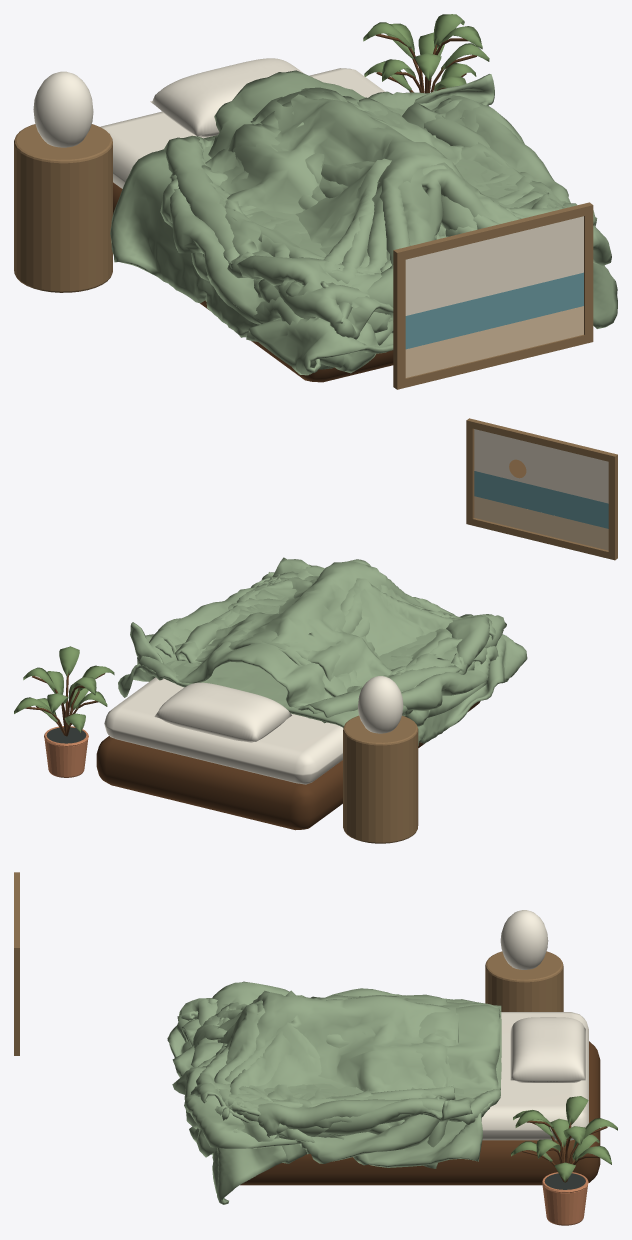
The model's file is room-sleep.glb.
The picture shows the model from 3 angles, top to bottom: view 1: azimuth 30°, elevation 25°; view 2: azimuth 150°, elevation 25°; view 3: azimuth 270°, elevation 25°; orthographic projection. The views are drawn at different scales.
Visible parts, largest first — view 1: sleep_duvet_lizard, sleep_duvet_empty, sleep_duvet_ghibli, sleep__pale oak, sleep_duvet_rick-and-morty, sleep_decor linen canvas sky, sleep_duvet_simpsons, sleep__linen, sleep_decor pale oak, sleep_duvet_south-park, sleep_decor linen canvas sea, sleep_decor linen canvas sand (+3 smaller); view 2: sleep__linen, sleep__honey ash, sleep_duvet_ghibli, sleep_duvet_lizard, sleep__pale oak, sleep_duvet_empty, sleep_decor linen canvas sky, sleep_pillow_empty, sleep_duvet_south-park, sleep_duvet_simpsons, sleep_decor pale oak, sleep_decor linen canvas sea (+4 smaller); view 3: sleep_duvet_lizard, sleep_duvet_ghibli, sleep__honey ash, sleep_duvet_south-park, sleep_duvet_empty, sleep__linen, sleep_duvet_simpsons, sleep_duvet_rick-and-morty, sleep_pillow_empty, sleep__pale oak, sleep__olive leaf, sleep__terracotta (+2 smaller).
Boxes of the visible parts, left/top/right/bottom form: sleep_duvet_lizard: left=169, top=87, right=567, bottom=345; sleep_duvet_empty: left=110, top=74, right=617, bottom=375; sleep_duvet_ghibli: left=164, top=70, right=563, bottom=333; sleep__pale oak: left=14, top=124, right=112, bottom=292; sleep_duvet_rick-and-morty: left=209, top=142, right=577, bottom=339; sleep_decor linen canvas sky: left=405, top=216, right=583, bottom=315; sleep_duvet_simpsons: left=160, top=90, right=611, bottom=373; sleep__linen: left=33, top=68, right=385, bottom=188; sleep_decor pale oak: left=393, top=202, right=593, bottom=389; sleep_duvet_south-park: left=188, top=96, right=596, bottom=318; sleep_decor linen canvas sea: left=405, top=272, right=583, bottom=349; sleep_decor linen canvas sand: left=405, top=306, right=583, bottom=377; sleep__linen: left=104, top=676, right=403, bottom=784; sleep__honey ash: left=25, top=673, right=480, bottom=830; sleep_duvet_ghibli: left=118, top=575, right=495, bottom=723; sleep_duvet_lizard: left=155, top=561, right=488, bottom=710; sleep__pale oak: left=343, top=715, right=418, bottom=843; sleep_duvet_empty: left=130, top=587, right=527, bottom=746; sleep_decor linen canvas sky: left=474, top=429, right=608, bottom=503; sleep_pillow_empty: left=154, top=682, right=291, bottom=742; sleep_duvet_south-park: left=160, top=557, right=487, bottom=693; sleep_duvet_simpsons: left=175, top=565, right=498, bottom=726; sleep_decor pale oak: left=466, top=418, right=617, bottom=560; sleep_decor linen canvas sea: left=474, top=471, right=608, bottom=528; sleep_duvet_lizard: left=189, top=988, right=458, bottom=1142; sleep_duvet_ghibli: left=172, top=981, right=500, bottom=1167; sleep__honey ash: left=240, top=1041, right=607, bottom=1185; sleep_duvet_south-park: left=190, top=990, right=447, bottom=1163; sleep_duvet_empty: left=167, top=1005, right=501, bottom=1204; sleep__linen: left=481, top=910, right=588, bottom=1140; sleep_duvet_simpsons: left=184, top=1003, right=456, bottom=1148; sleep_duvet_rick-and-morty: left=176, top=997, right=454, bottom=1168; sleep_pillow_empty: left=510, top=1017, right=585, bottom=1082; sleep__pale oak: left=485, top=951, right=563, bottom=1011; sleep__olive leaf: left=511, top=1096, right=617, bottom=1182; sleep__terracotta: left=542, top=1172, right=588, bottom=1225.
Size of the model in its own units: 2.58 by 1.31 by 3.55.
